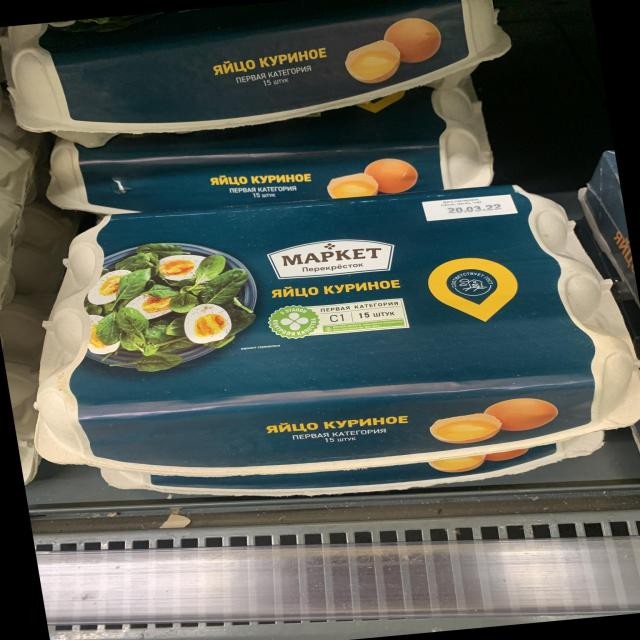organic waste: (0, 164, 640, 488), (8, 0, 522, 150), (40, 92, 501, 227)
